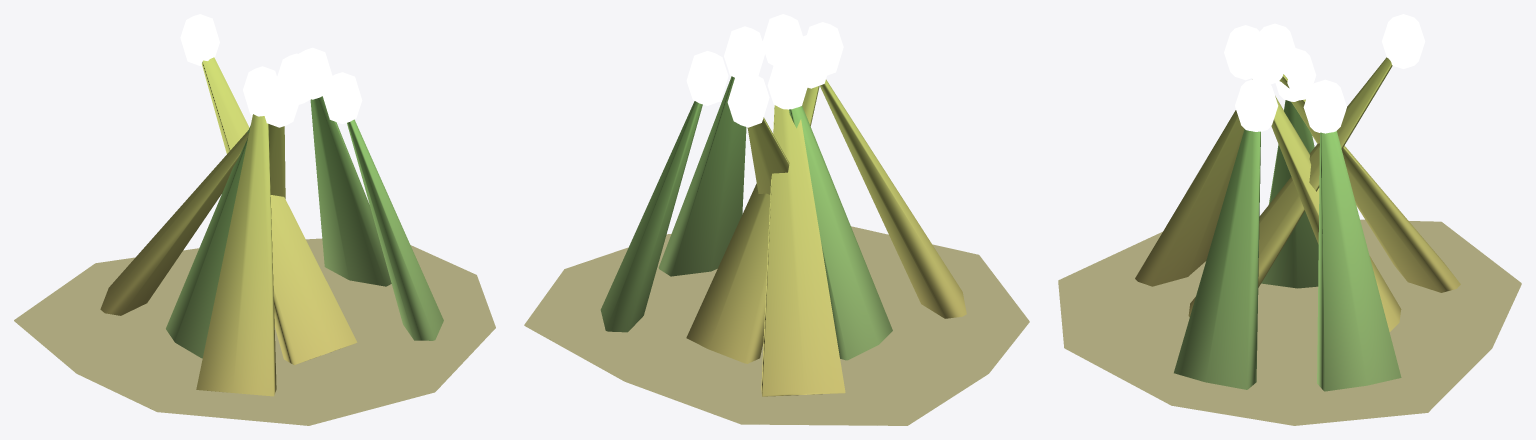
The model's file is dune_grass.glb.
The picture shows the model from 3 angles, left to right: view 1: azimuth 30°, elevation 25°; view 2: azimuth 150°, elevation 25°; view 3: azimuth 270°, elevation 25°; orthographic projection. The views are drawn at different scales.
Parts seen in each view (by area): view 1: Blades; view 2: Blades; view 3: Blades.
Part boxes in pixels (x1,y1,x2,y2): Blades: (14, 14, 495, 425); Blades: (524, 14, 1029, 425); Blades: (1058, 14, 1521, 425).
Size of the model in its own units: 0.7648 by 0.5307 by 0.7246.
